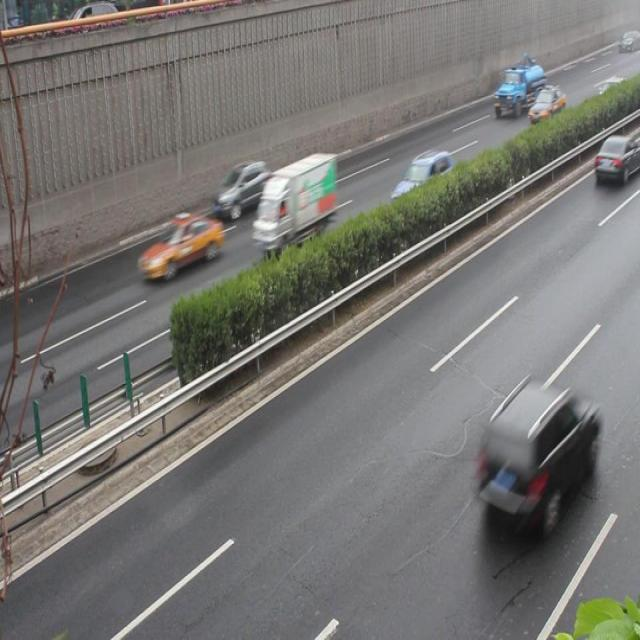bus: (252, 151, 336, 247), (492, 60, 544, 115)
car: (478, 382, 596, 528), (137, 212, 221, 280), (388, 148, 456, 213), (212, 160, 272, 218), (592, 133, 640, 185), (589, 77, 628, 116), (526, 85, 564, 120)
